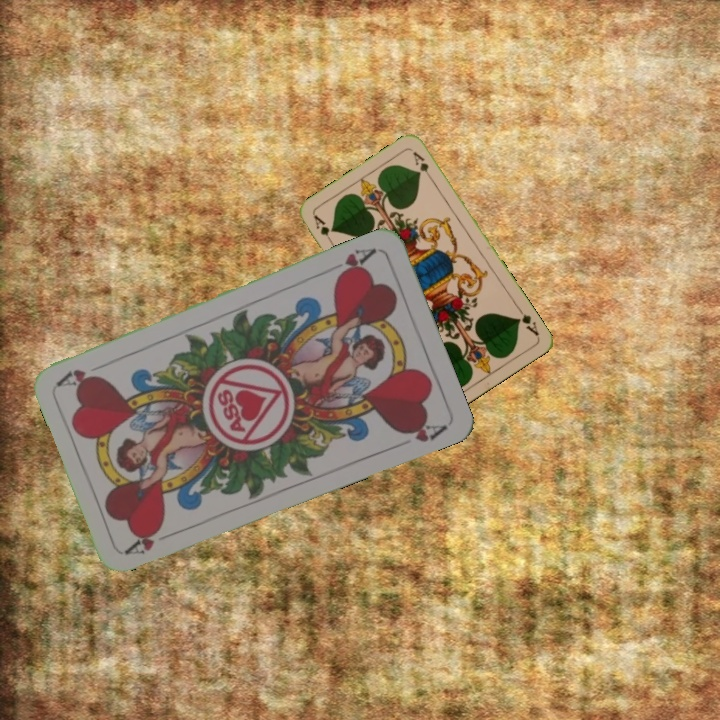GA: (309, 211, 337, 248), (513, 303, 541, 338)
HA: (122, 520, 179, 558), (331, 244, 379, 282)
